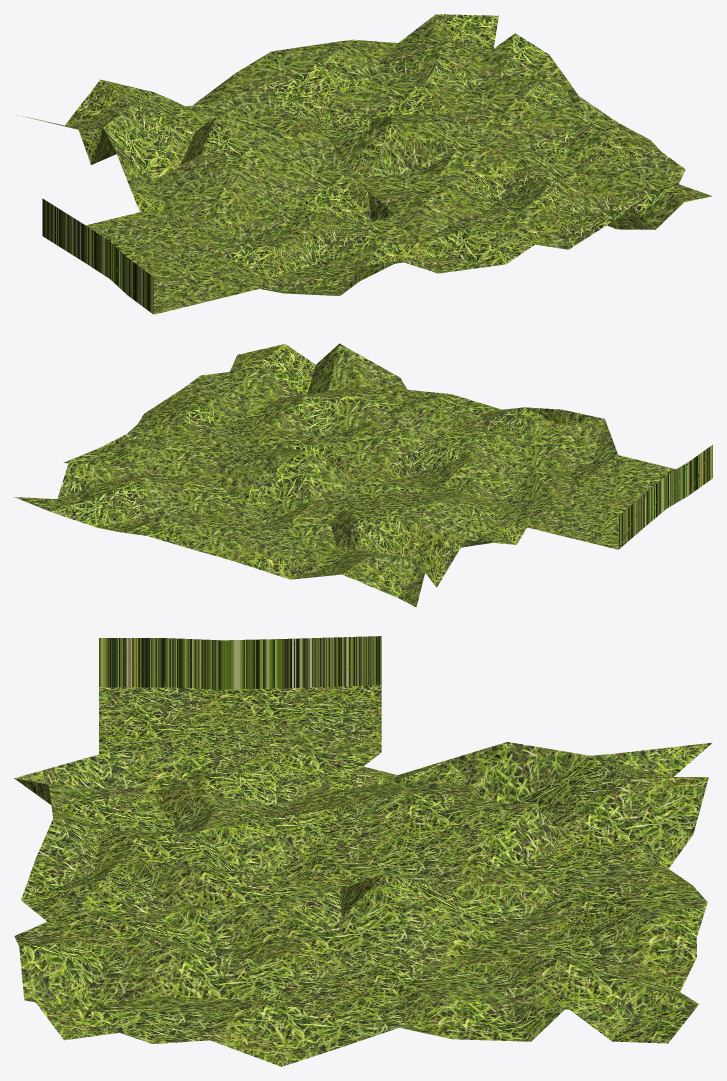
The model's file is grassPlane.obj.
3 renders of one model, top to bottom at view 1: azimuth 30°, elevation 25°; view 2: azimuth 150°, elevation 25°; view 3: azimuth 270°, elevation 25°, orthographic. The views are drawn at different scales.
Visible parts, largest first — view 1: Plane; view 2: Plane; view 3: Plane.
Part boxes in pixels (x1,y1,x2,y2): Plane: (19, 14, 712, 314); Plane: (14, 343, 712, 606); Plane: (14, 636, 712, 1066).
Size of the model in its own units: 116 by 12.01 by 94.71.
1 material, 1 textured.
